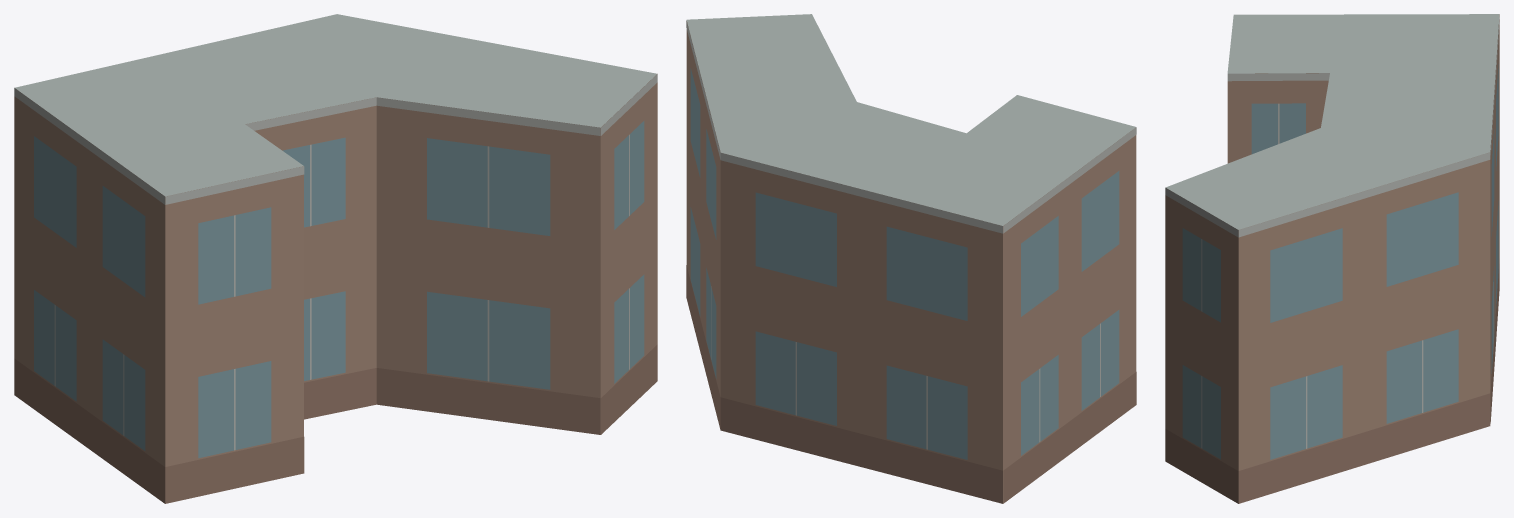
File: survey-upis-32469777.glb
3 renders of one model, left to right at view 1: azimuth 30°, elevation 25°; view 2: azimuth 150°, elevation 25°; view 3: azimuth 270°, elevation 25°, orthographic. The views are drawn at different scales.
Visible parts, largest first — view 1: survey-upis-32469777.tmp; view 2: survey-upis-32469777.tmp; view 3: survey-upis-32469777.tmp.
Part boxes in pixels (x1,y1,x2,y2): survey-upis-32469777.tmp: (14,14,657,503); survey-upis-32469777.tmp: (686,14,1136,503); survey-upis-32469777.tmp: (1165,14,1499,503).
Bounding box in the file's own units: 14.98 × 8.85 × 9.8.
